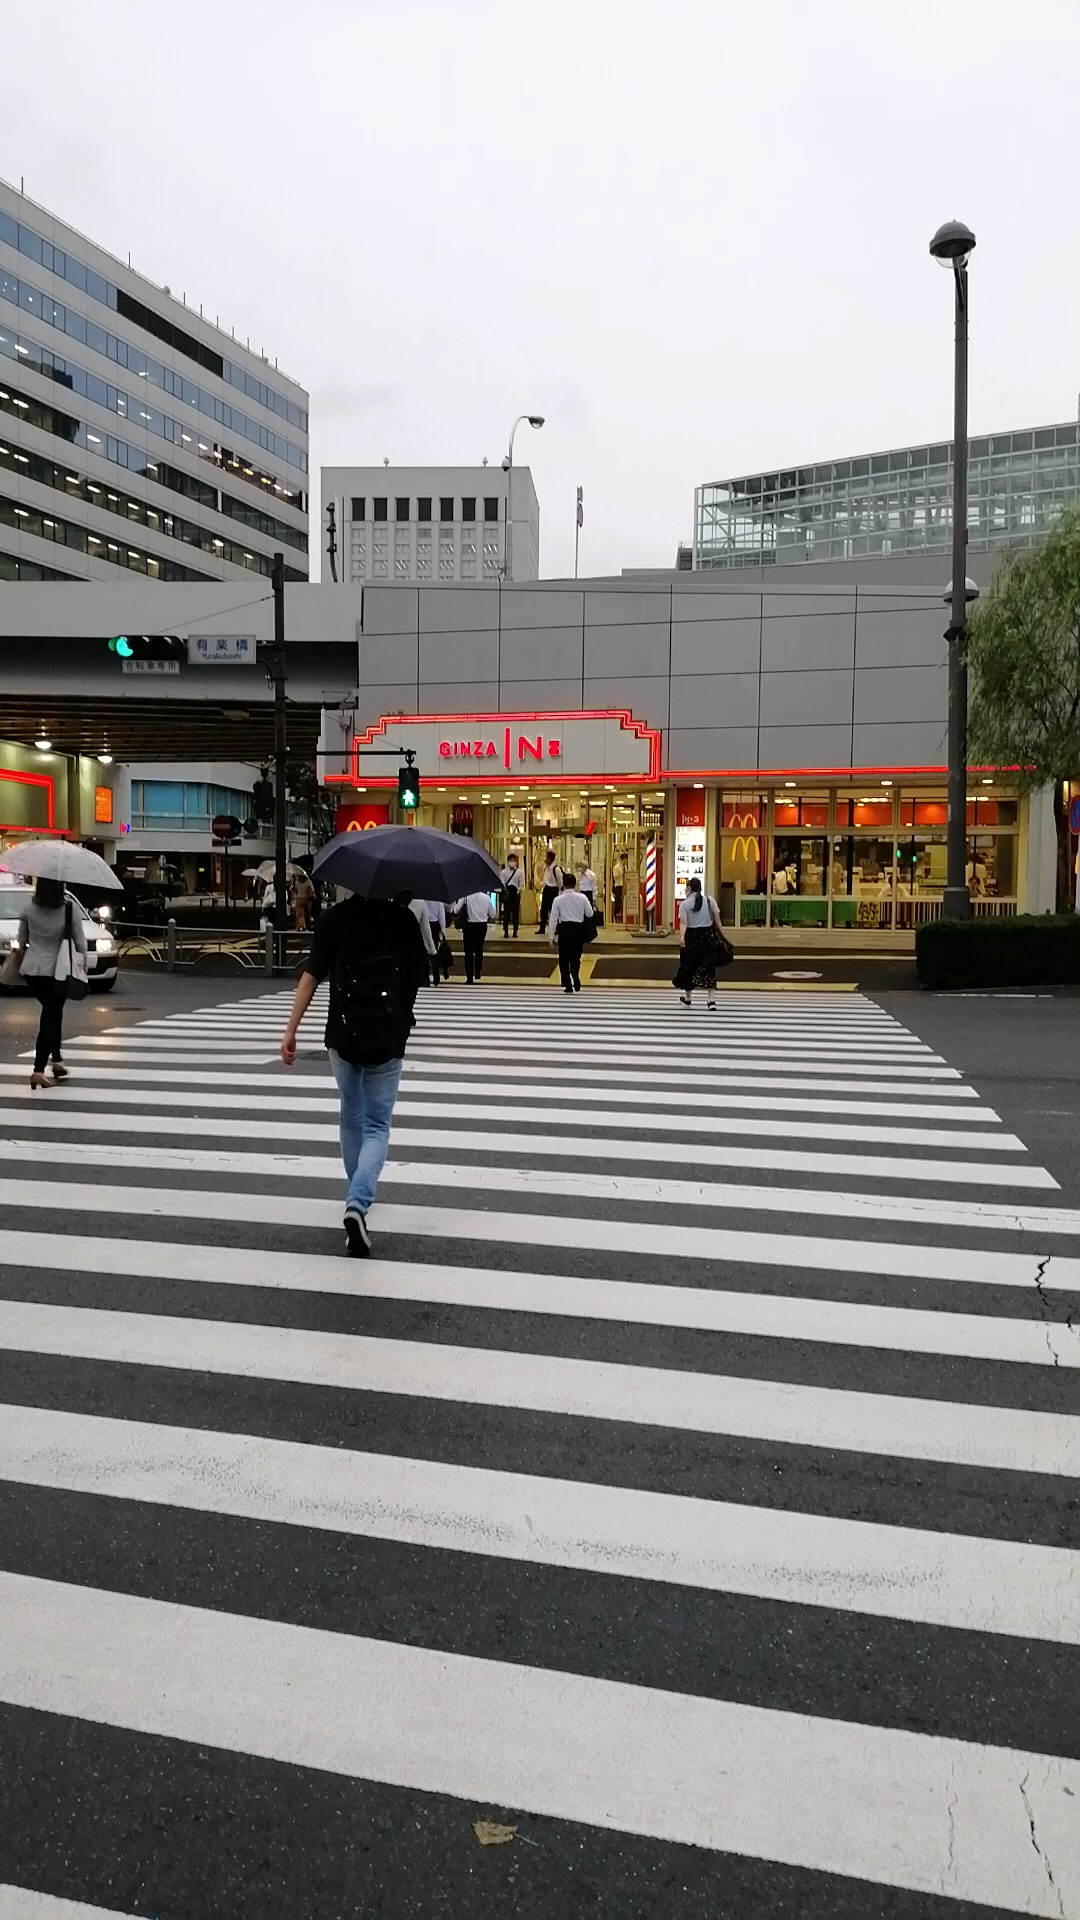green: (397, 765, 419, 808)
